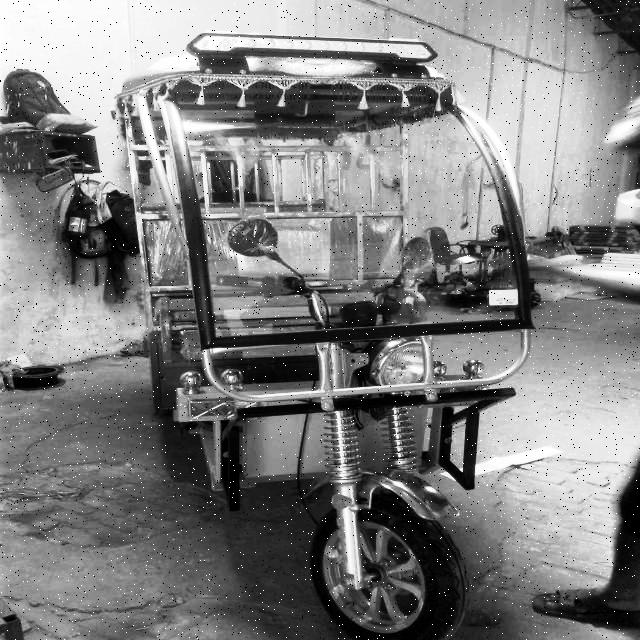Toto: (111, 66, 537, 640)
